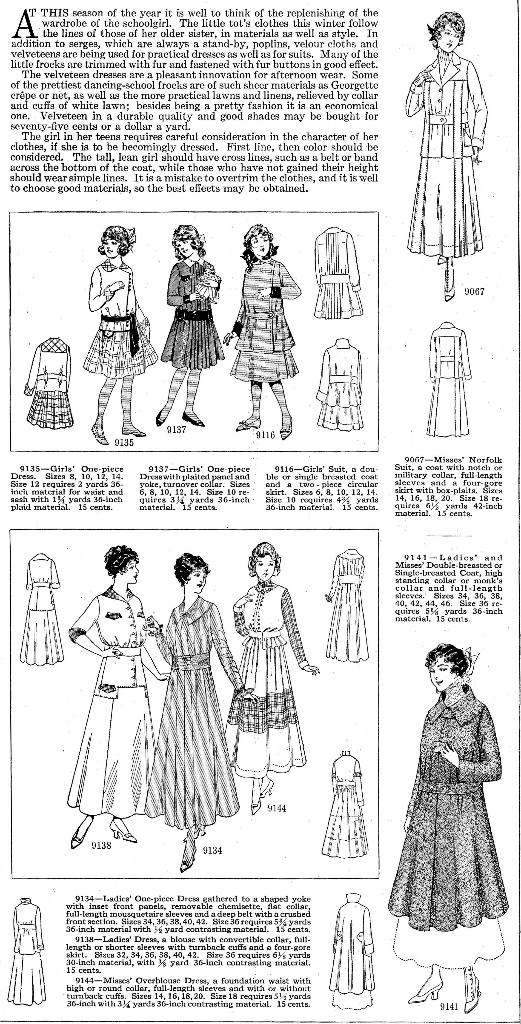Footwear: (406, 980, 443, 1002), (179, 407, 206, 430), (276, 414, 294, 440), (153, 402, 172, 426), (90, 424, 108, 445), (118, 424, 146, 436), (237, 419, 262, 431)
